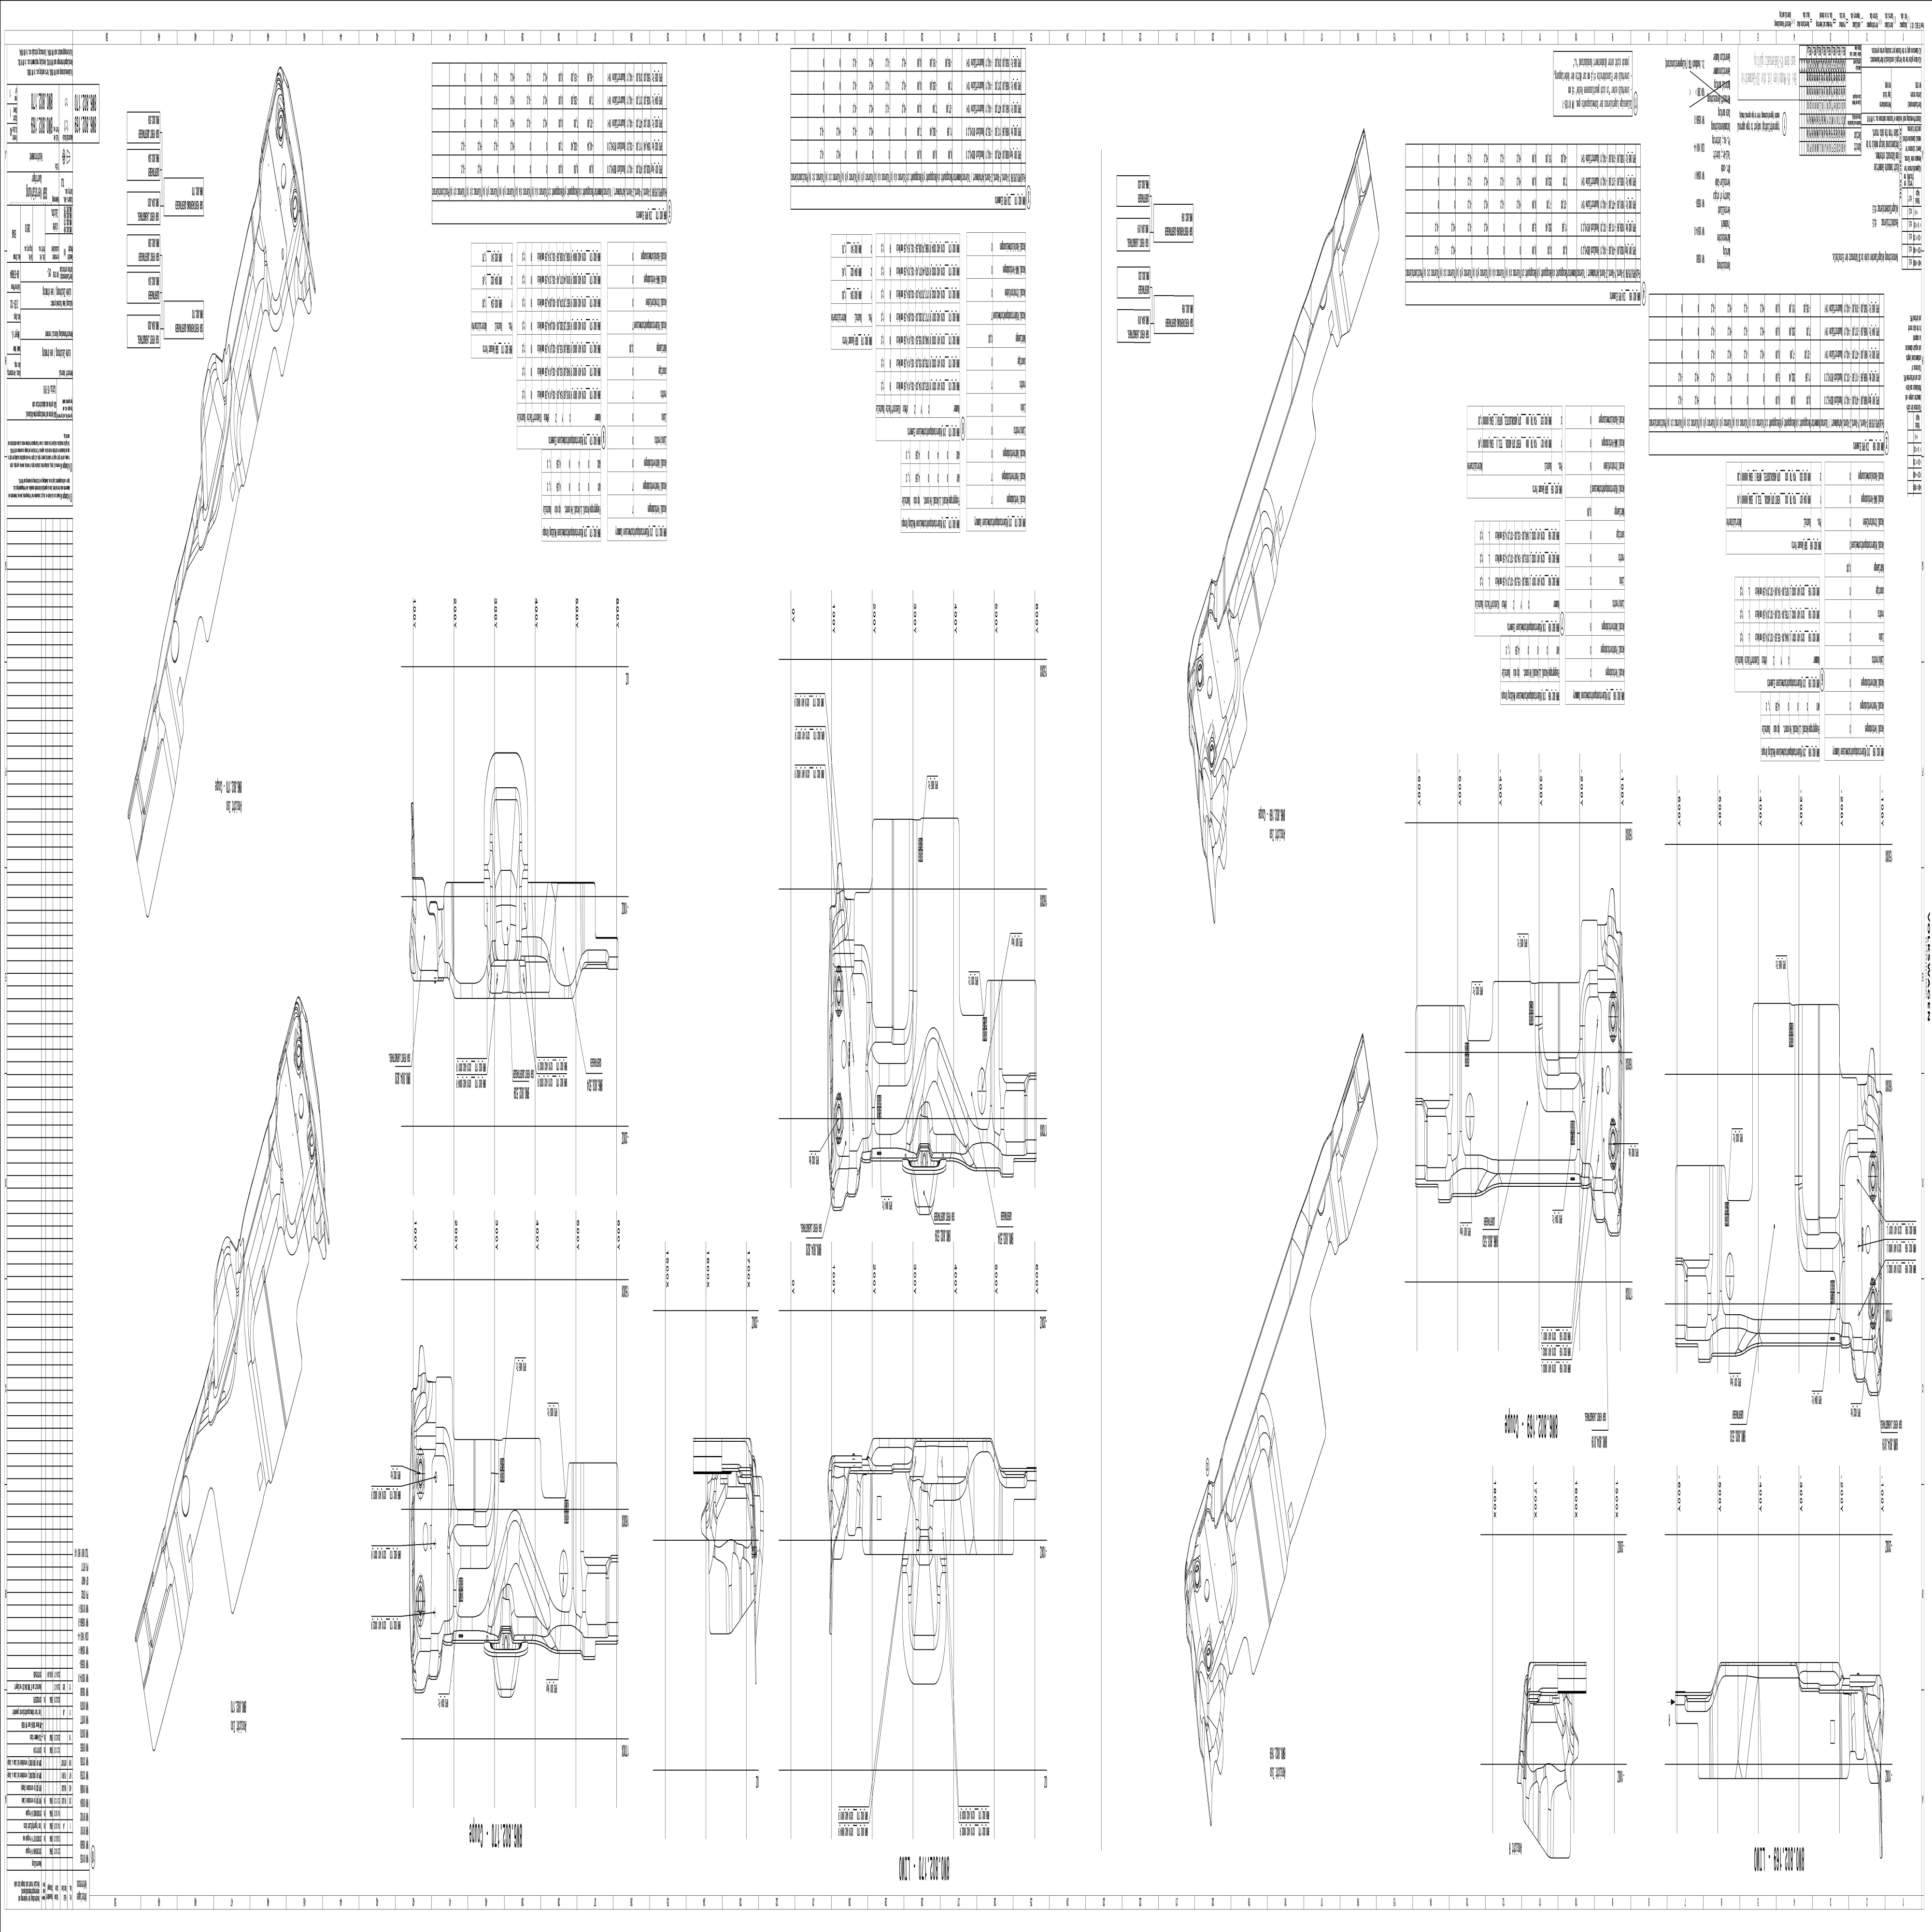InnerContour: (1463, 1090, 1477, 1143), (975, 1063, 987, 1120), (1725, 1249, 1737, 1302), (557, 1546, 570, 1599)
ThroughHole: (1606, 991, 1621, 1044), (833, 1093, 846, 1143), (833, 966, 846, 1014), (416, 1445, 426, 1495), (414, 1578, 425, 1626), (1191, 1559, 1205, 1594), (1608, 1122, 1619, 1164), (294, 1035, 304, 1076), (290, 186, 301, 225), (1868, 1283, 1879, 1322), (1207, 738, 1219, 770), (276, 106, 287, 143), (1203, 1640, 1214, 1675), (1868, 1159, 1877, 1196), (1196, 656, 1205, 692), (308, 1129, 317, 1164)
